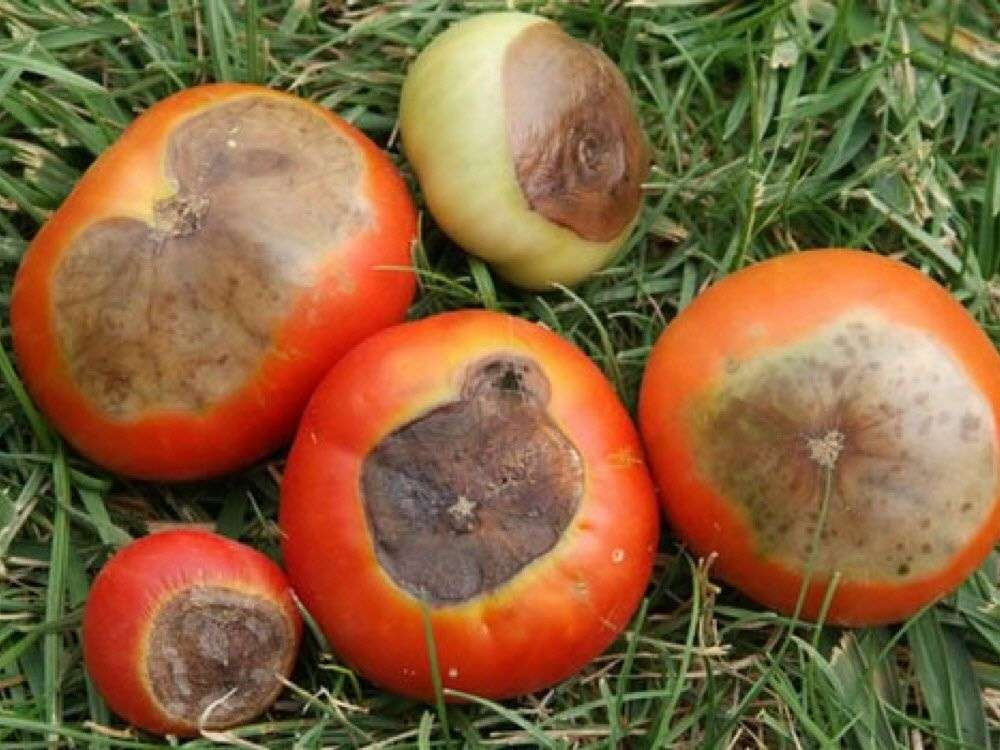blossom_rotw: (49, 112, 330, 380), (715, 326, 983, 596), (373, 331, 621, 608), (139, 571, 307, 715)
